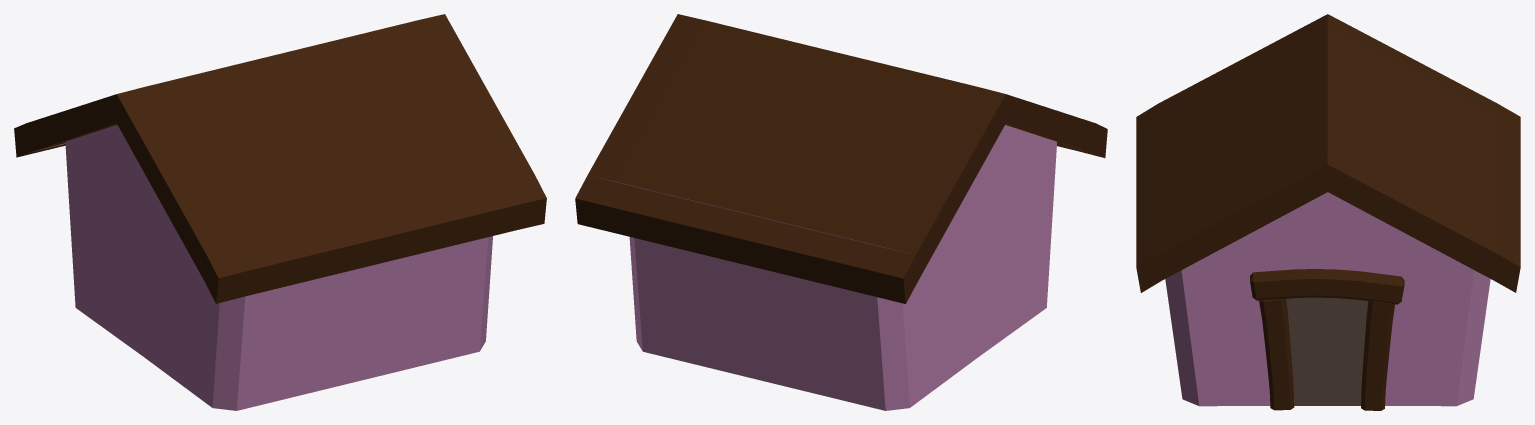
Rendered from house2.fbx.
The picture shows the model from 3 angles, left to right: view 1: azimuth 30°, elevation 25°; view 2: azimuth 150°, elevation 25°; view 3: azimuth 270°, elevation 25°; orthographic projection. The views are drawn at different scales.
Visible parts, largest first — view 1: Cube; view 2: Cube; view 3: Cube.
Part boxes in pixels (x1,y1,x2,y2): Cube: (14,14,546,410); Cube: (575,14,1107,410); Cube: (1136,14,1520,410).
Size of the model in its own units: 240 by 190 by 259.
